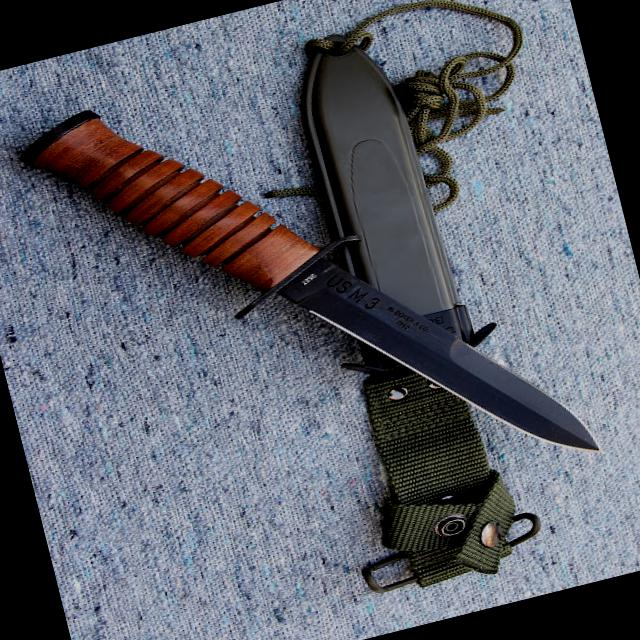knife: (270, 197, 612, 521)
